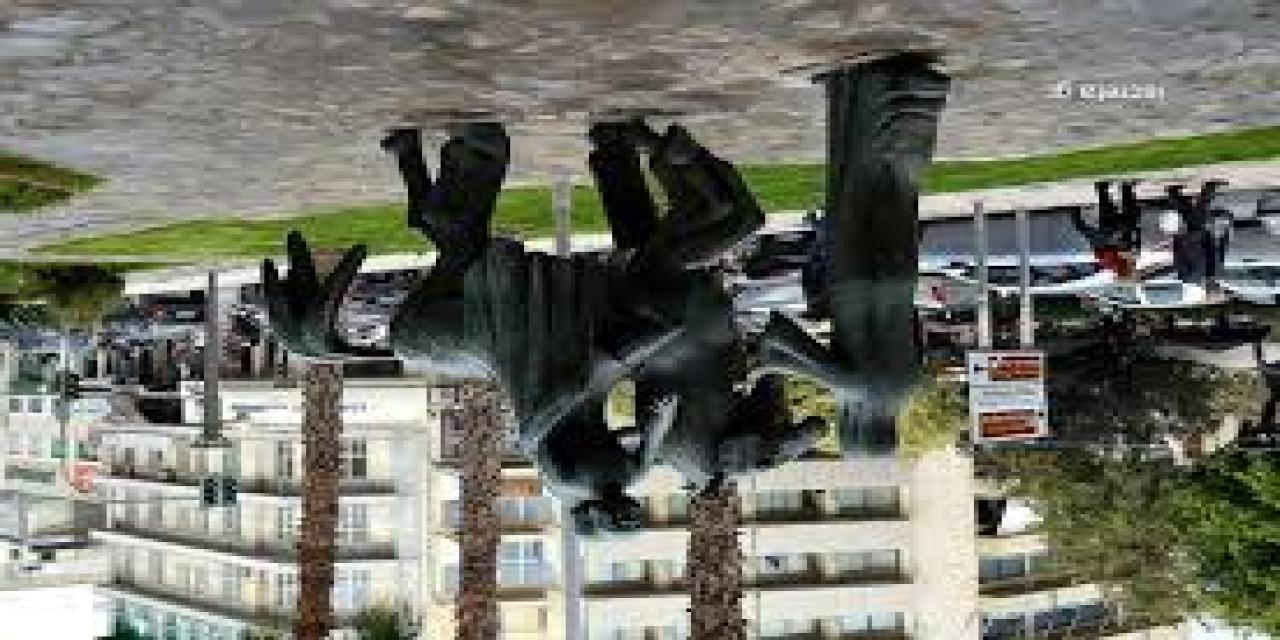Aretousa: (257, 60, 952, 544)
